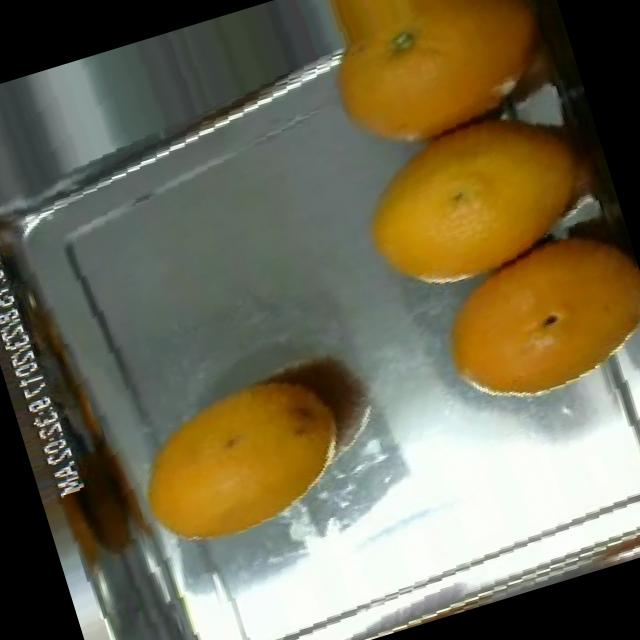Fruit: (98, 344, 361, 579)
